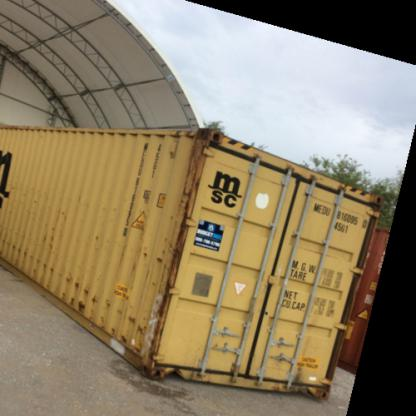Damage: (148, 262, 180, 371), (274, 369, 339, 400)
